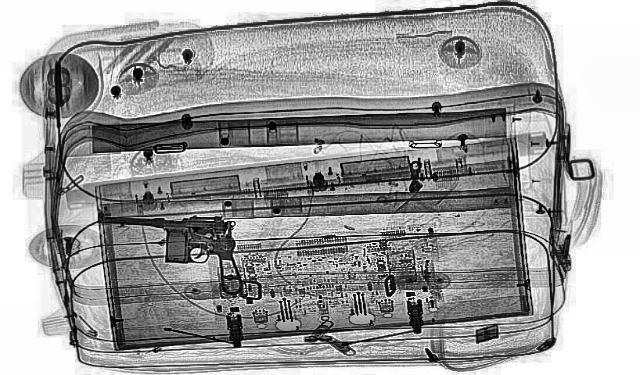Gun: (79, 208, 259, 296)
